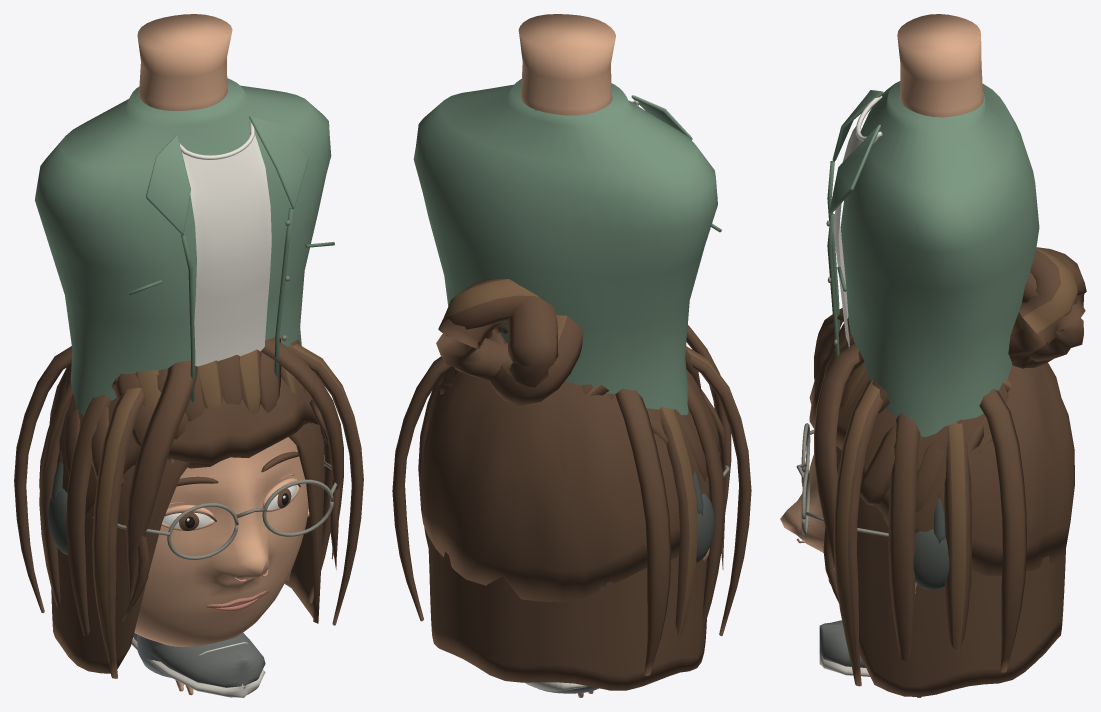
File: characters.glb
The picture shows the model from 3 angles, left to right: view 1: azimuth 30°, elevation 25°; view 2: azimuth 150°, elevation 25°; view 3: azimuth 270°, elevation 25°; orthographic projection. The views are drawn at different scales.
Parts seen in each view (by area): view 1: torso, hair_bob, face, tee, hair_curly, neck, hair_fluffy, collar, shoe, glasses, torso_details, hair_bun (+6 smaller); view 2: torso, hair_bob, hair_curly, hair_bun, neck, hair_fluffy, headphones, collar; view 3: torso, hair_bob, hair_curly, neck, hair_bun, hair_fluffy, headphones, collar, face, shoe, torso_details, tee (+1 smaller).
Boxes of the visible parts, x1,y1,x2,y2 form: torso: (35,78,331,416); hair_bob: (14,338,363,678); face: (134,437,308,646); tee: (179,121,271,366); hair_curly: (39,339,327,514); neck: (137,14,232,110); hair_fluffy: (56,336,311,477); collar: (146,116,308,235); shoe: (131,633,265,697); glasses: (92,461,337,559); torso_details: (127,208,334,402); hair_bun: (122,399,340,622); torso: (413,79,717,415); hair_bob: (392,325,751,690); hair_curly: (419,362,719,602); hair_bun: (436,278,725,570); neck: (518,14,615,115); hair_fluffy: (428,349,707,586); headphones: (693,471,714,562); collar: (631,95,692,139); torso: (840,81,1039,436); hair_bob: (814,307,1065,696); hair_curly: (809,358,1074,575); neck: (897,14,983,117); hair_bun: (823,247,1086,602); hair_fluffy: (823,317,999,526); headphones: (913,498,949,589); collar: (829,90,883,214); face: (780,455,835,572); shoe: (819,620,870,676); torso_details: (826,161,846,358); tee: (833,96,882,346).
Bounding box in the file's own units: 0.526 × 1.17 × 0.4909.
